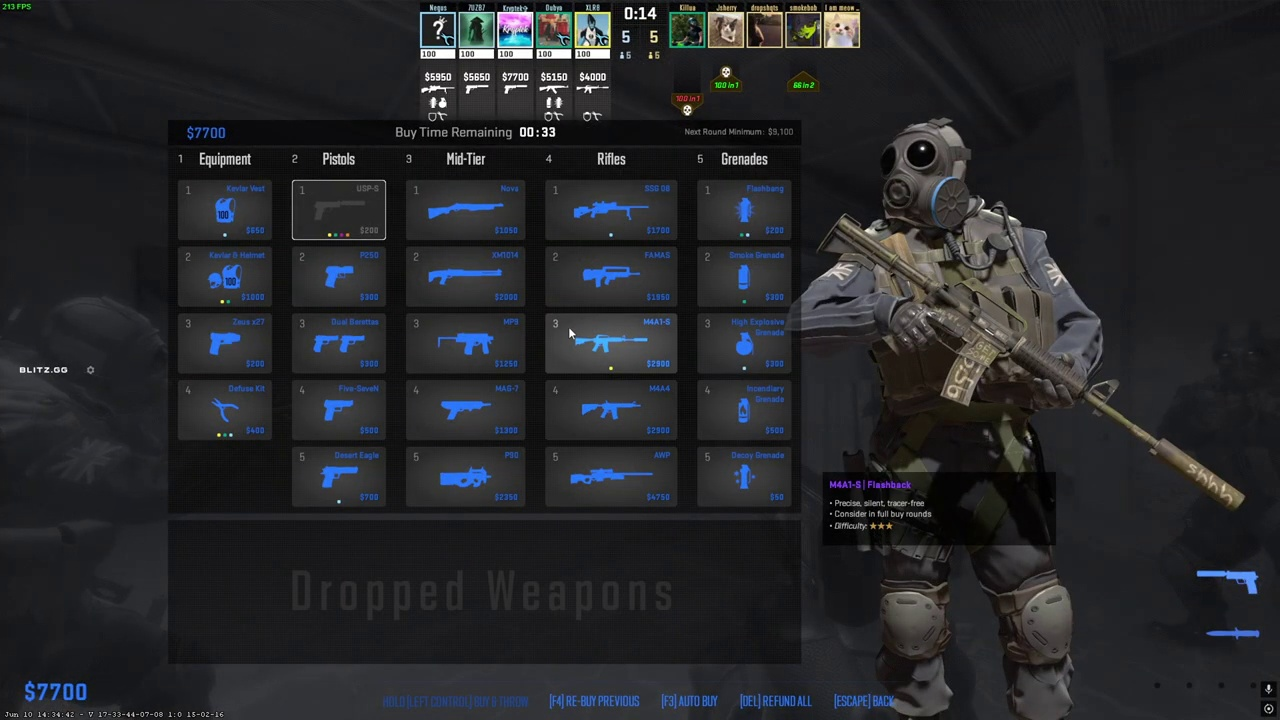CT: (850, 121, 1090, 720)
